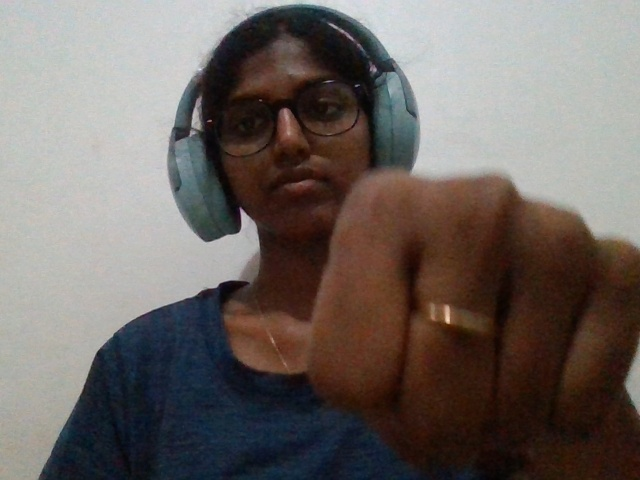Yes: (289, 132, 640, 473)
